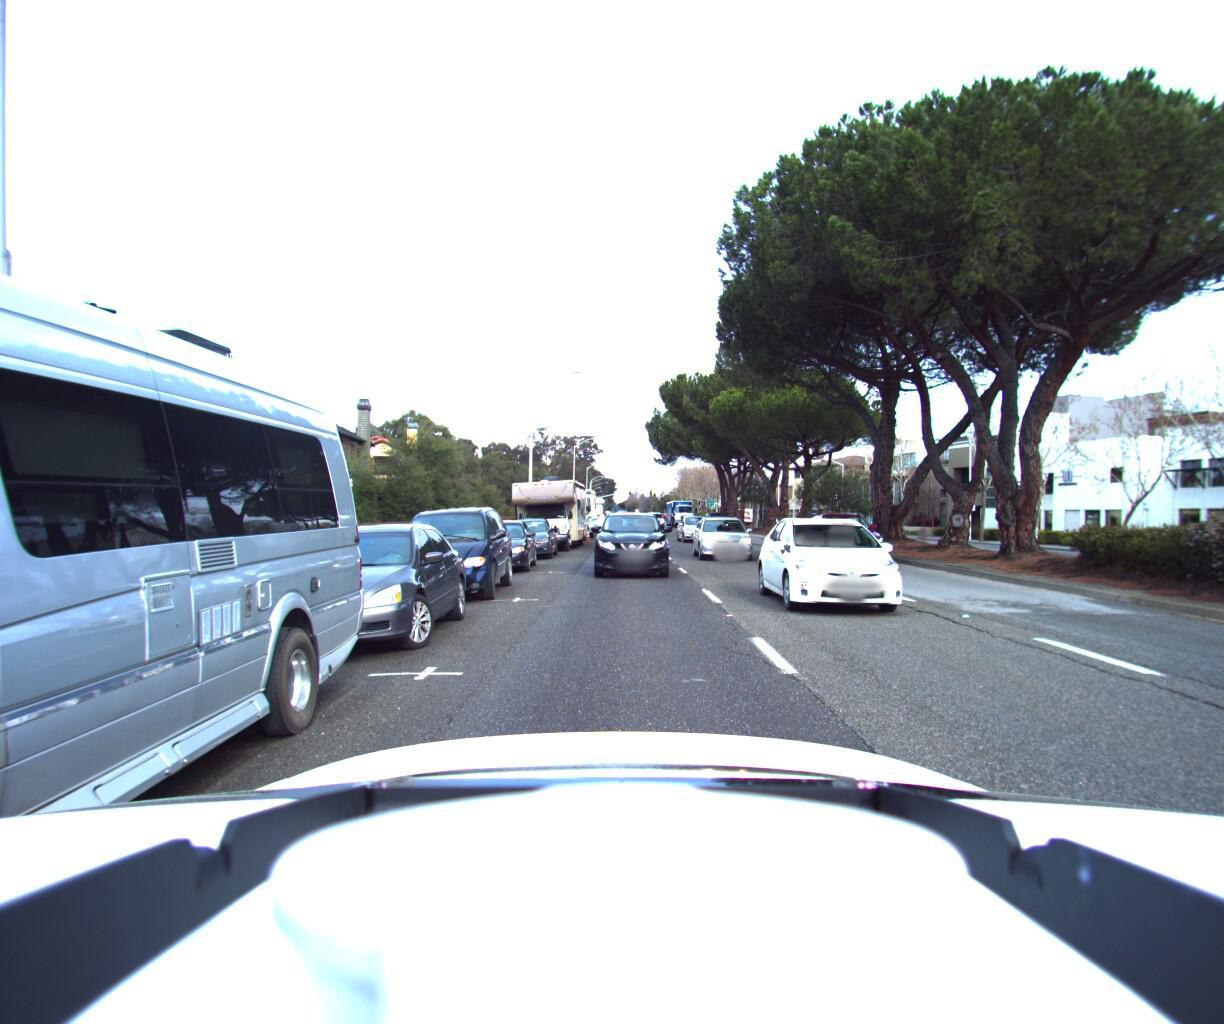car: (0, 0, 375, 1024), (229, 521, 476, 668), (759, 509, 957, 634), (374, 503, 519, 609), (811, 517, 914, 576), (591, 509, 673, 582), (462, 520, 540, 577), (690, 513, 763, 565), (495, 517, 559, 563), (672, 515, 722, 547)
other_vehicle: (507, 477, 588, 554), (536, 481, 596, 543)
truck: (573, 496, 604, 531)
